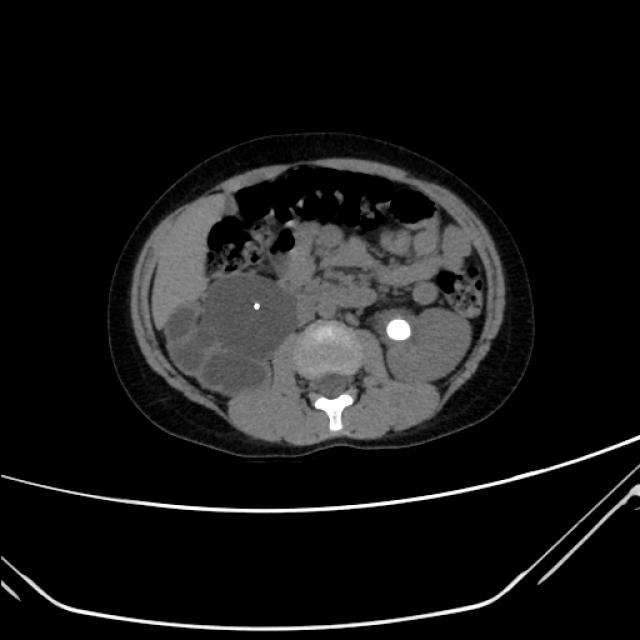kidney: (202, 273, 303, 360), (378, 305, 474, 383)
stone: (384, 316, 412, 339), (255, 302, 263, 311)
